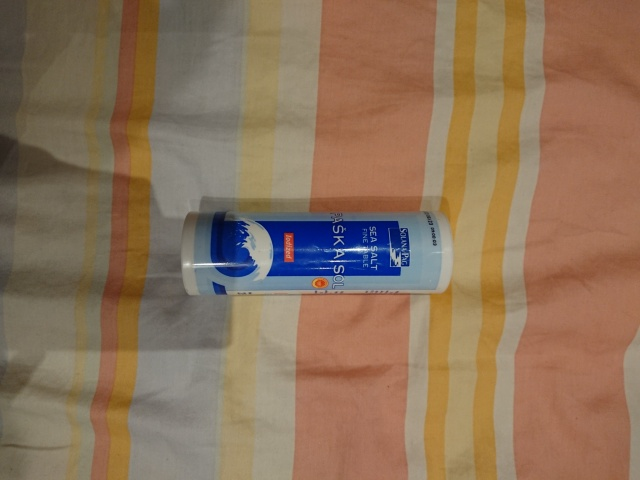Solana Pag Fine Sea Salt 250g: (175, 206, 458, 300)
